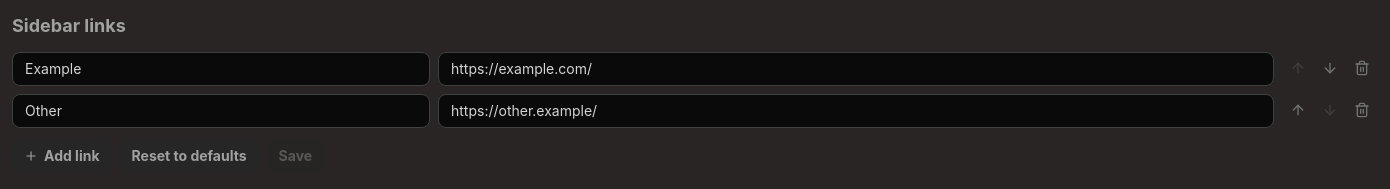
it: LinksEditor › saves null after Reset to defaults
Click the button "Reset to defaults". click: [189, 156]
box: [120,140,259,172]
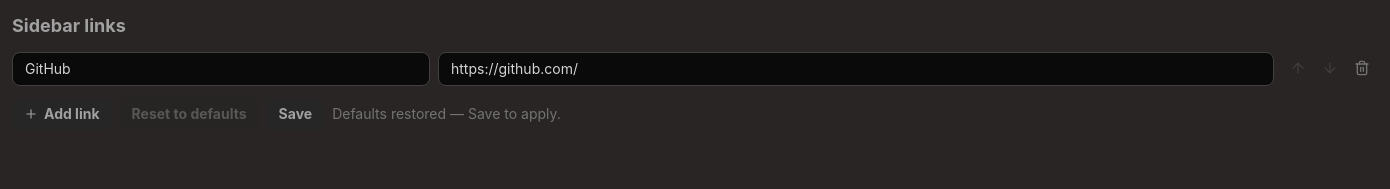
Click the button "Save". click: [295, 114]
box: [267,98,324,130]
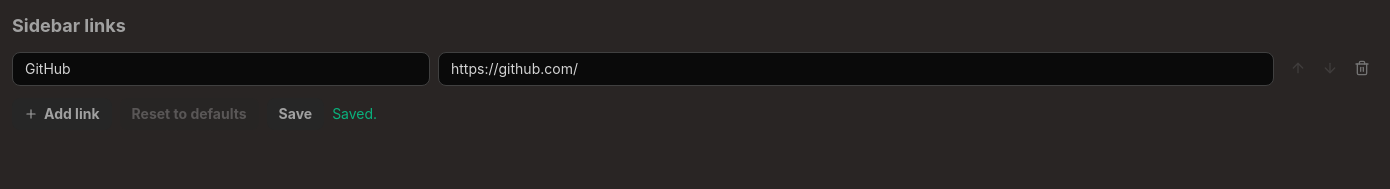
Expected: the text "Saved." is shown, [332,104,377,124]
